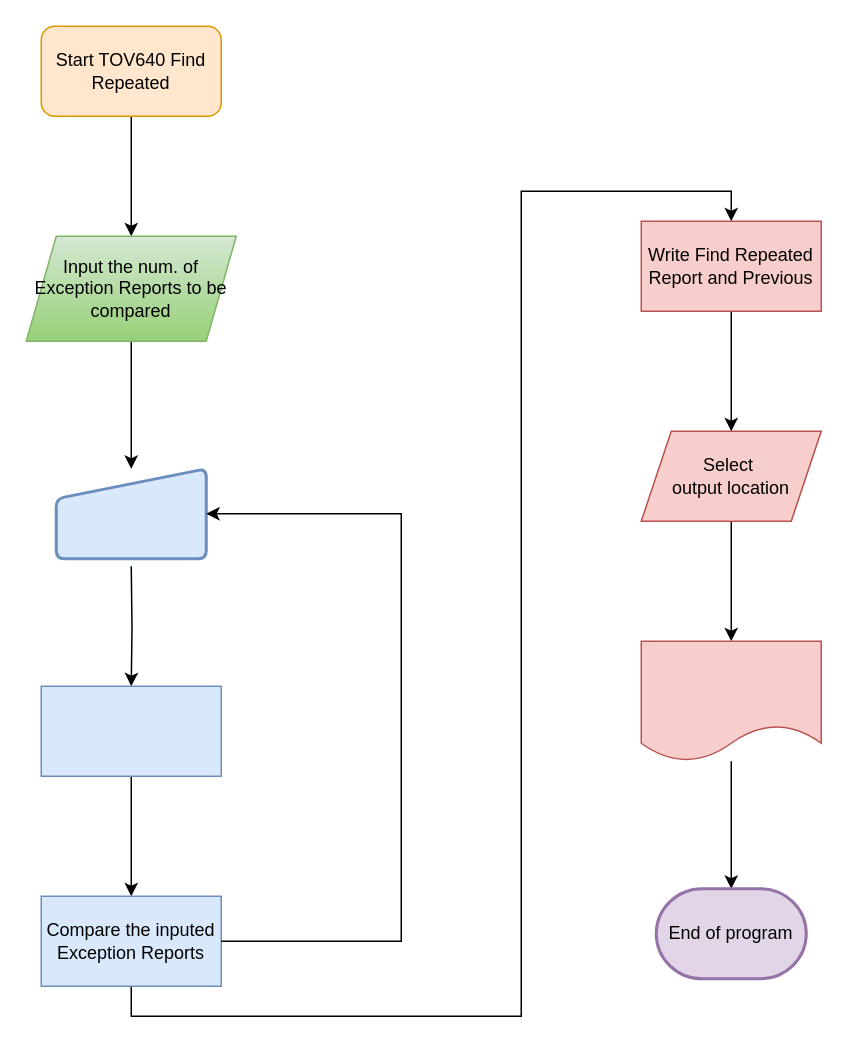
Image size: 848x1055. Some labels were removed from this diagram. The centre of each missing label's shape, as x and y in pixels:
"Clean up Stagger Left and Right exceptions" belongs at [130,730].
"Input Exception Reports" belongs at [130,513].
"Store report" belongs at [730,700].
